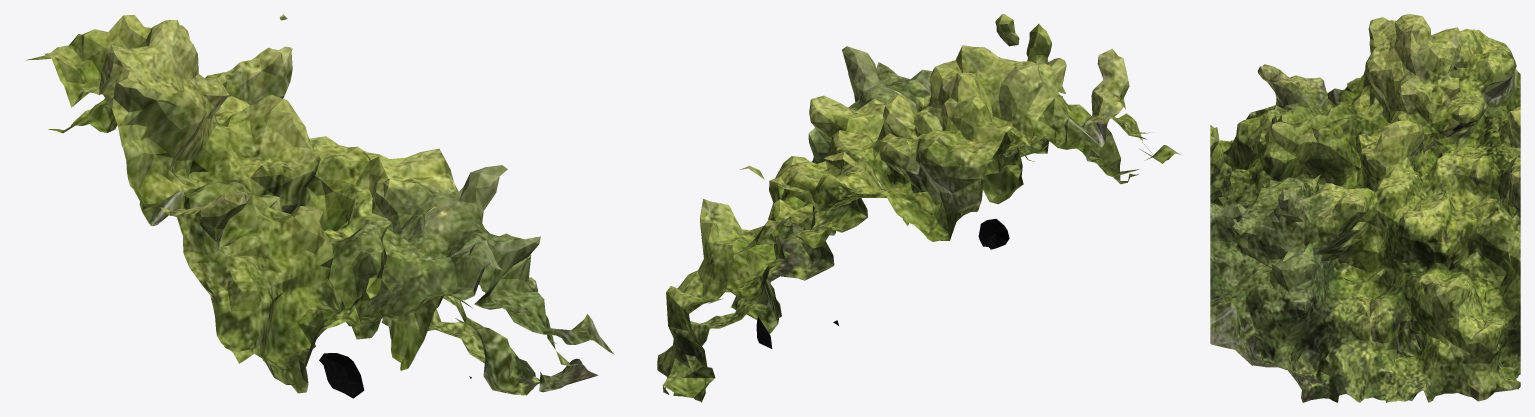
3 renders of one model, left to right at view 1: azimuth 30°, elevation 25°; view 2: azimuth 150°, elevation 25°; view 3: azimuth 270°, elevation 25°, orthographic. The views are drawn at different scales.
Bounding box in the file's own units: 5.9 × 5.7 × 5.9.
Materials: 5 (5 with a texture image).
